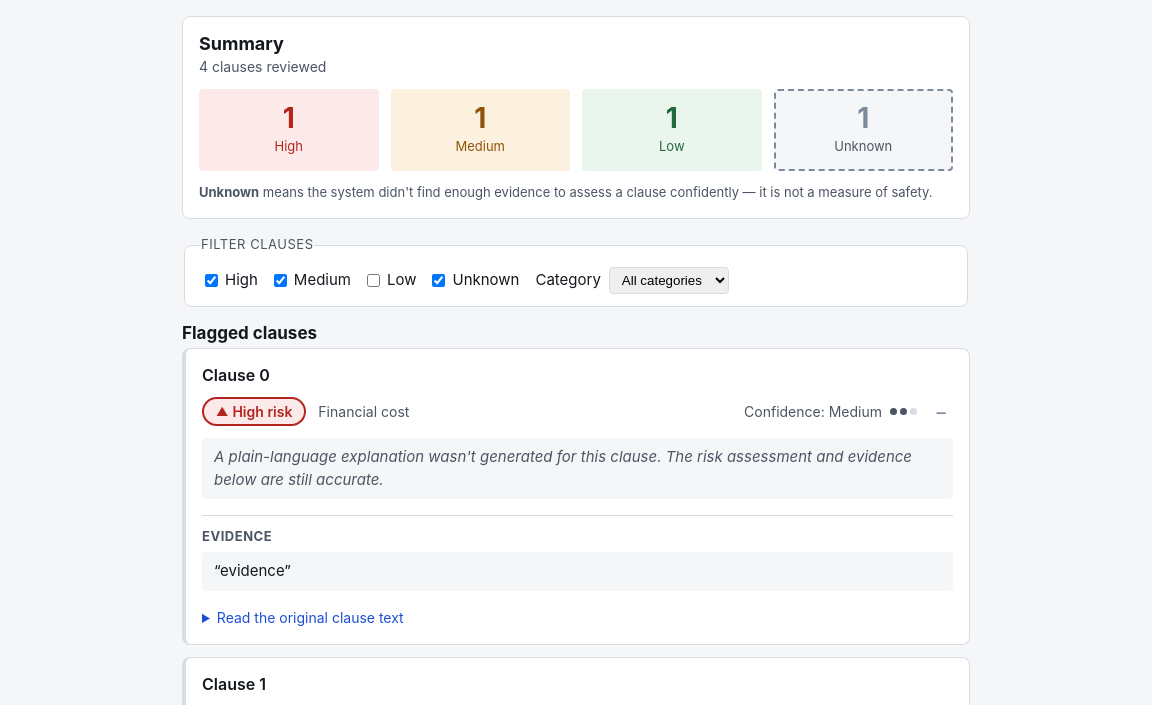
ReportView › shows an empty state when no clauses match the current filters
The image size is (1152, 705).
What coordinates should you click on to do the following:
click the checkbox labelled "High"
I would click on:
 (212, 280)
Its box is [205,274,218,287].
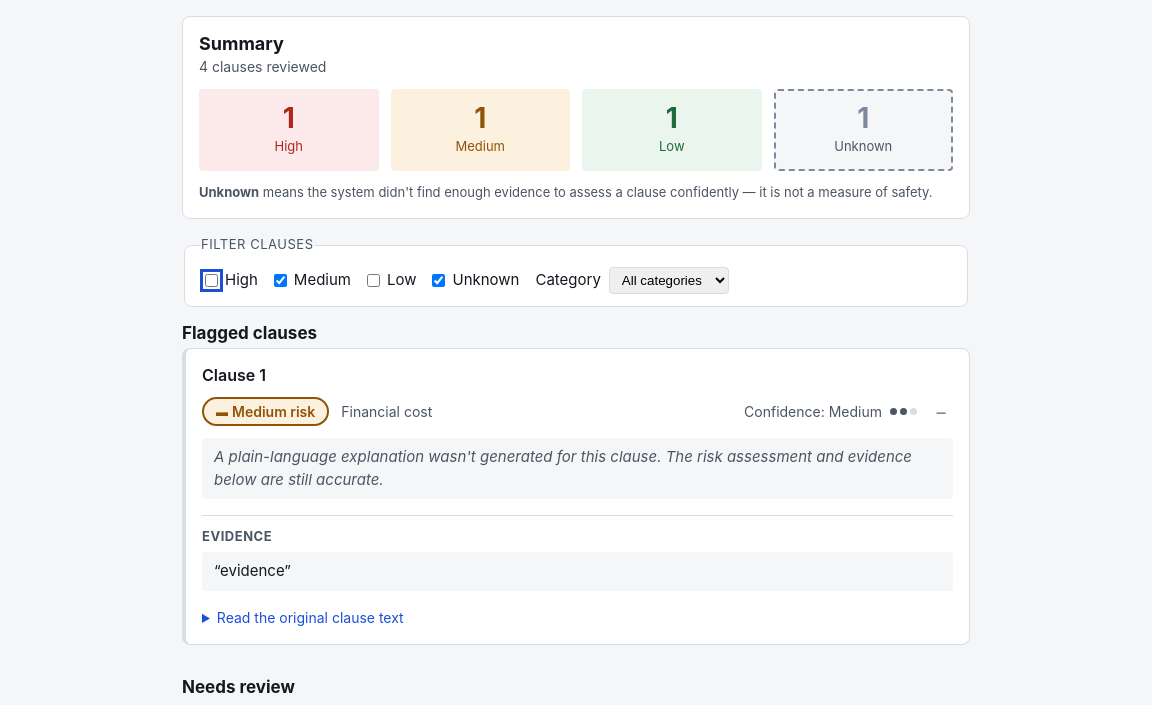
What coordinates should you click on to do the following:
click the checkbox labelled "Medium"
I would click on:
 (280, 280)
Its box is [274,274,287,287].
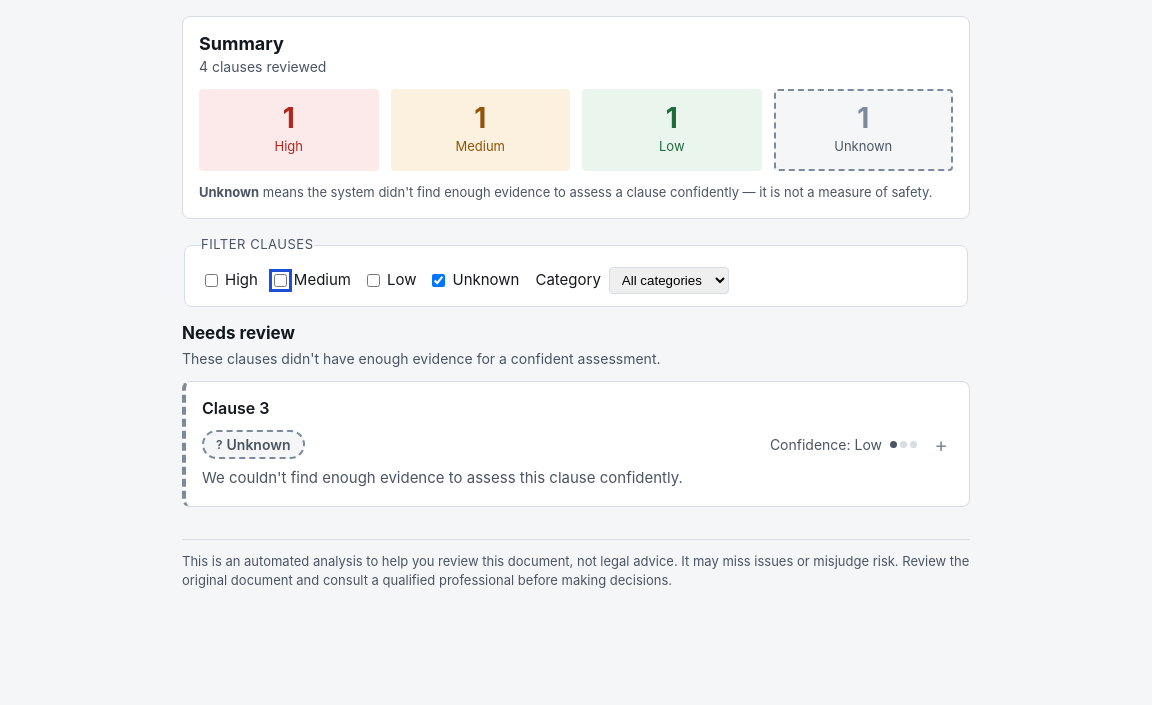
What coordinates should you click on to do the following:
click the checkbox labelled "Unknown"
I would click on:
 (439, 280)
Its box is [432,274,446,287].
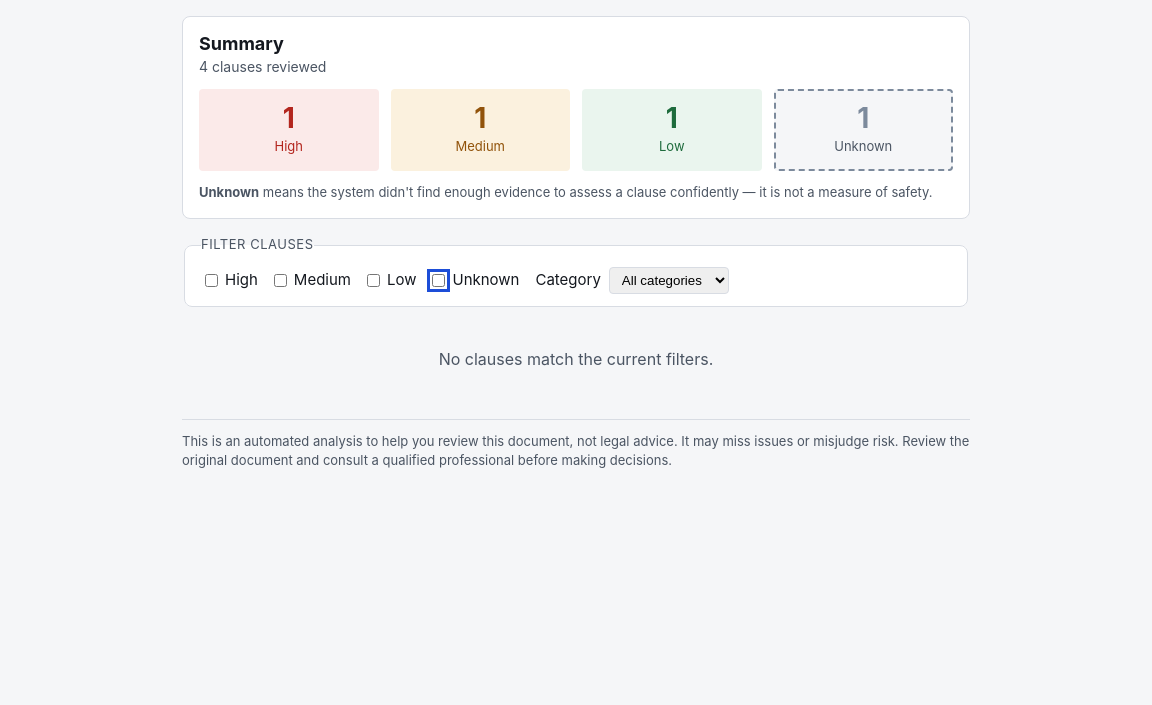
Result: the text "No clauses match the current filters." is shown at [439,349,713,369]
